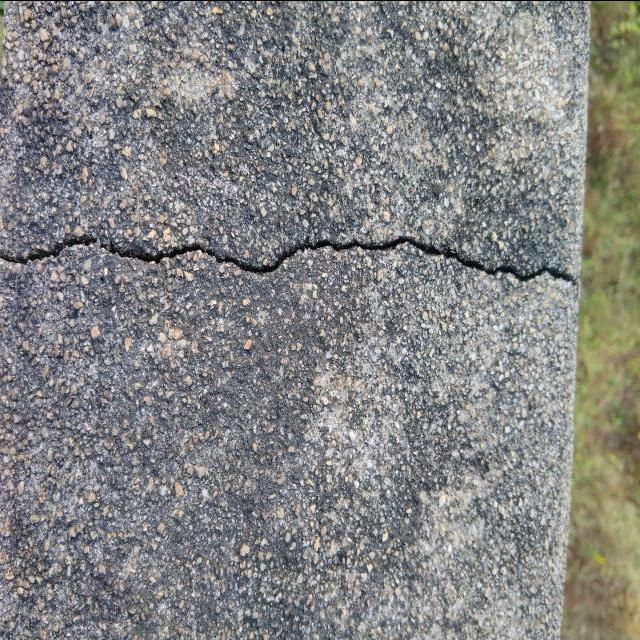SurfaceCrack: (2, 189, 576, 334)
